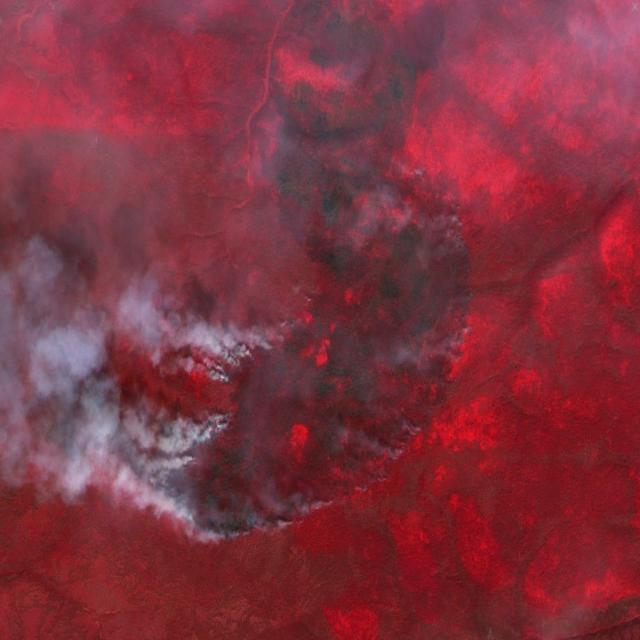fire: (157, 156, 478, 544)
